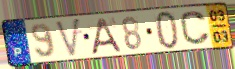0: (154, 10, 180, 51)
8: (121, 15, 143, 51)
9: (30, 22, 57, 60)
A: (89, 16, 123, 56)
C: (178, 10, 212, 46)
V: (53, 16, 81, 59)
